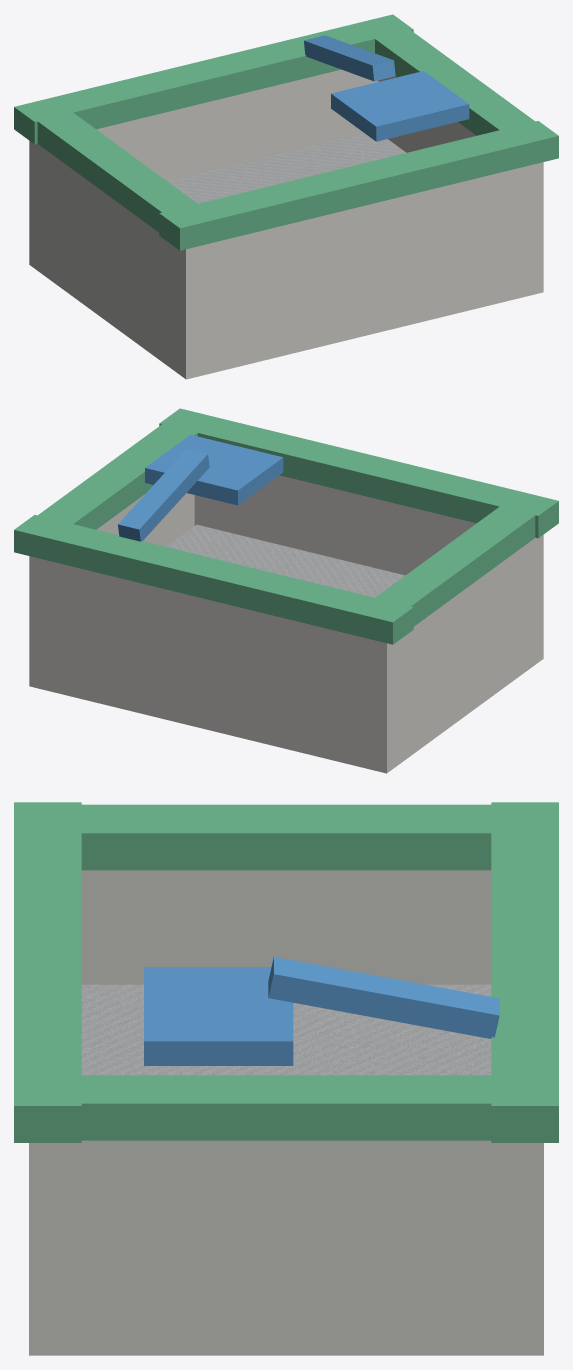
File: boarding-kennels-and-cattery-boarding-kennels-and-catt-7807d0ac__35550.glb
The picture shows the model from 3 angles, top to bottom: view 1: azimuth 30°, elevation 25°; view 2: azimuth 150°, elevation 25°; view 3: azimuth 270°, elevation 25°; orthographic projection. The views are drawn at different scales.
Parts seen in each view (by area): view 1: boarding-kennels-and-cattery-litter-tray; view 2: boarding-kennels-and-cattery-litter-tray; view 3: boarding-kennels-and-cattery-litter-tray.
Boxes of the visible parts, box(x1,y1,x2,y2) form: boarding-kennels-and-cattery-litter-tray: box(14, 14, 558, 379); boarding-kennels-and-cattery-litter-tray: box(14, 408, 558, 773); boarding-kennels-and-cattery-litter-tray: box(14, 802, 558, 1355).
Bounding box in the file's own units: 0.53 × 0.2615 × 0.402.
Materials: 4 (1 with a texture image).
